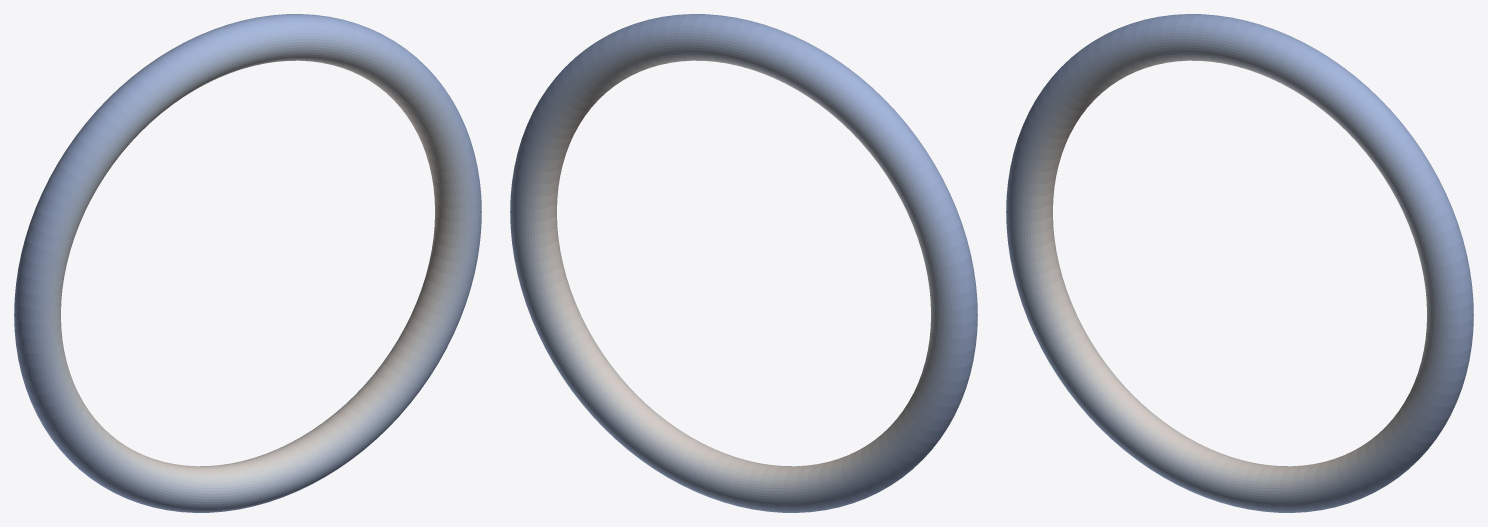
The picture shows the model from 3 angles, left to right: view 1: azimuth 30°, elevation 25°; view 2: azimuth 150°, elevation 25°; view 3: azimuth 330°, elevation 25°; orthographic projection.
Visible parts, largest first — view 1: world; view 2: world; view 3: world.
Part boxes in pixels (x1=…): world: x1=14, y1=14, x2=481, y2=512; world: x1=510, y1=14, x2=977, y2=512; world: x1=1006, y1=14, x2=1473, y2=512.
Bounding box in the file's own units: 32.89 × 32.89 × 2.88.
